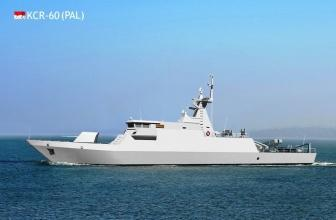warship: (24, 75, 322, 168)
